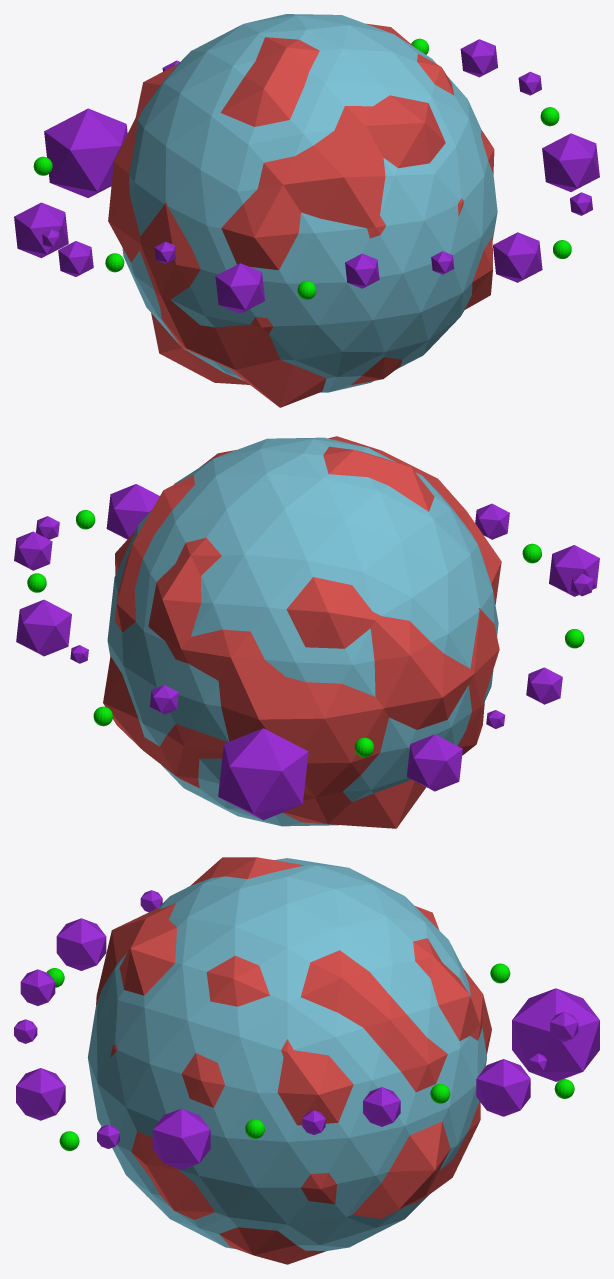
The model's file is planette.fbx.
The picture shows the model from 3 angles, top to bottom: view 1: azimuth 30°, elevation 25°; view 2: azimuth 150°, elevation 25°; view 3: azimuth 270°, elevation 25°; orthographic projection. The views are drawn at different scales.
Parts seen in each view (by area): view 1: Icosphere.001, Icosphere, Icosphere.017, Icosphere.003, Icosphere.018, Icosphere.007, Icosphere.014, Icosphere.002, Icosphere.009, Icosphere.010; view 2: Icosphere.001, Icosphere, Icosphere.017, Icosphere.018, Icosphere.012, Icosphere.003, Icosphere.014, Icosphere.002, Icosphere.009, Icosphere.010, Icosphere.016; view 3: Icosphere.001, Icosphere, Icosphere.017, Icosphere.003, Icosphere.012, Icosphere.014, Icosphere.007, Icosphere.002, Icosphere.010, Icosphere.016.
Boxes of the visible parts, <box> form: Icosphere.001: <box>122,14,497,392</box>; Icosphere: <box>108,23,494,407</box>; Icosphere.017: <box>44,108,127,197</box>; Icosphere.003: <box>542,133,599,191</box>; Icosphere.018: <box>14,202,68,258</box>; Icosphere.007: <box>493,232,542,282</box>; Icosphere.014: <box>215,263,264,313</box>; Icosphere.002: <box>460,39,497,77</box>; Icosphere.009: <box>58,241,93,276</box>; Icosphere.010: <box>345,253,379,288</box>; Icosphere.001: <box>107,437,498,826</box>; Icosphere: <box>103,436,501,828</box>; Icosphere.017: <box>218,728,308,820</box>; Icosphere.018: <box>406,734,462,791</box>; Icosphere.012: <box>16,599,71,656</box>; Icosphere.003: <box>106,484,159,539</box>; Icosphere.014: <box>549,545,599,596</box>; Icosphere.002: <box>14,531,52,570</box>; Icosphere.009: <box>526,667,562,704</box>; Icosphere.010: <box>475,503,509,539</box>; Icosphere.016: <box>149,685,178,714</box>; Icosphere.001: <box>87,858,486,1250</box>; Icosphere: <box>96,857,491,1264</box>; Icosphere.017: <box>512,988,599,1081</box>; Icosphere.003: <box>152,1108,210,1169</box>; Icosphere.012: <box>476,1059,530,1116</box>; Icosphere.014: <box>56,918,106,970</box>; Icosphere.007: <box>16,1068,65,1120</box>; Icosphere.002: <box>363,1087,400,1126</box>; Icosphere.010: <box>20,969,55,1005</box>; Icosphere.016: <box>550,1012,578,1041</box>.
Bounding box in the file's own units: 261 × 181 × 257.
